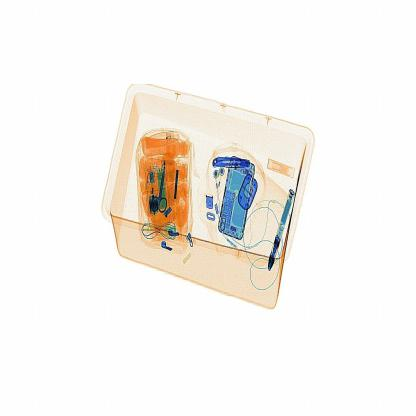knife: (207, 150, 257, 183)
